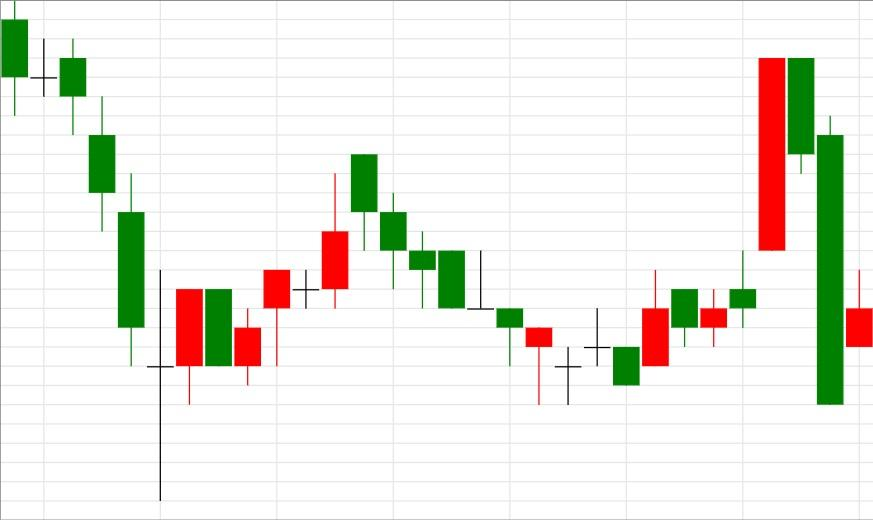three_black_crows_fall: (146, 154, 437, 502)
